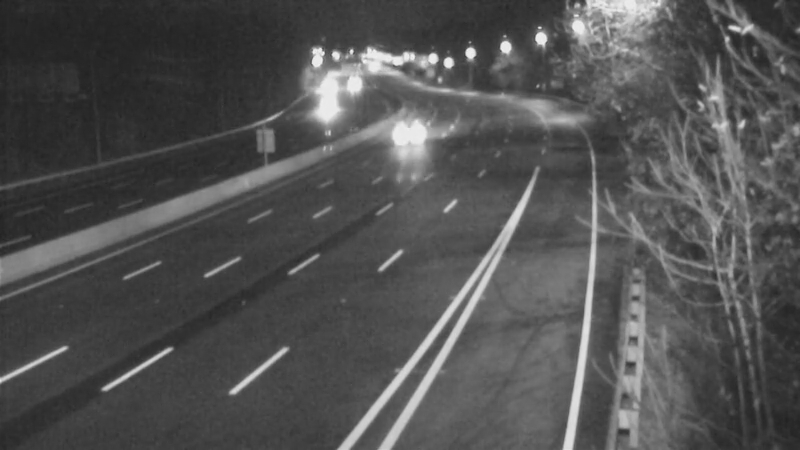vehicle: (390, 104, 440, 154), (293, 86, 343, 136), (327, 59, 377, 109)
